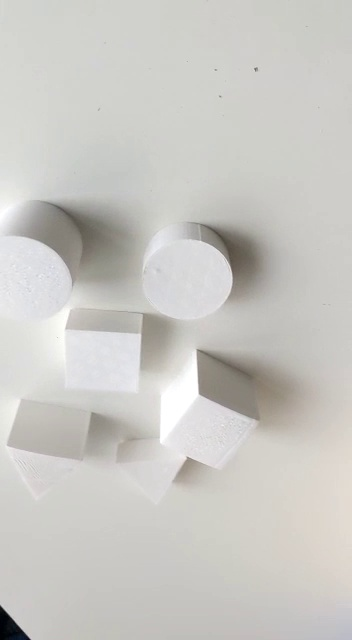Clyinder_short: (138, 219, 235, 321)
Cube: (154, 344, 261, 477)
Cube_short: (63, 304, 144, 397)
Cylinder: (1, 196, 84, 327)
Triangle: (4, 395, 94, 508)
Triangle_short: (111, 431, 198, 506)
